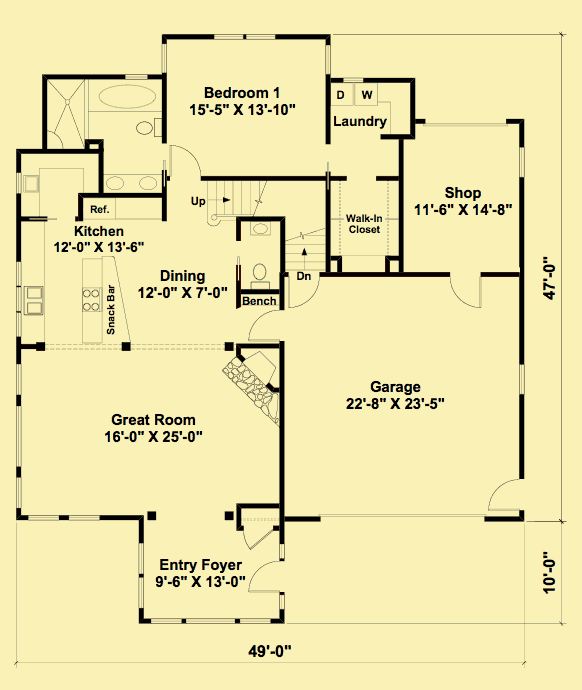door: (278, 273, 328, 313), (164, 141, 210, 179), (244, 555, 284, 596), (485, 474, 525, 514), (449, 266, 484, 311), (245, 306, 282, 344), (237, 522, 277, 549)
large sink: (134, 114, 164, 144), (245, 262, 274, 292)
small sink: (101, 168, 163, 195), (245, 217, 277, 240)
stairs: (185, 178, 331, 273)
tub: (84, 77, 166, 116)
twin sink: (20, 280, 47, 319)
windows: (10, 357, 25, 512), (19, 508, 103, 528), (146, 615, 274, 627), (212, 29, 278, 48), (12, 259, 26, 341), (134, 543, 150, 614), (511, 357, 532, 400), (513, 139, 530, 184), (157, 35, 172, 75), (120, 68, 150, 84), (323, 40, 334, 81)
